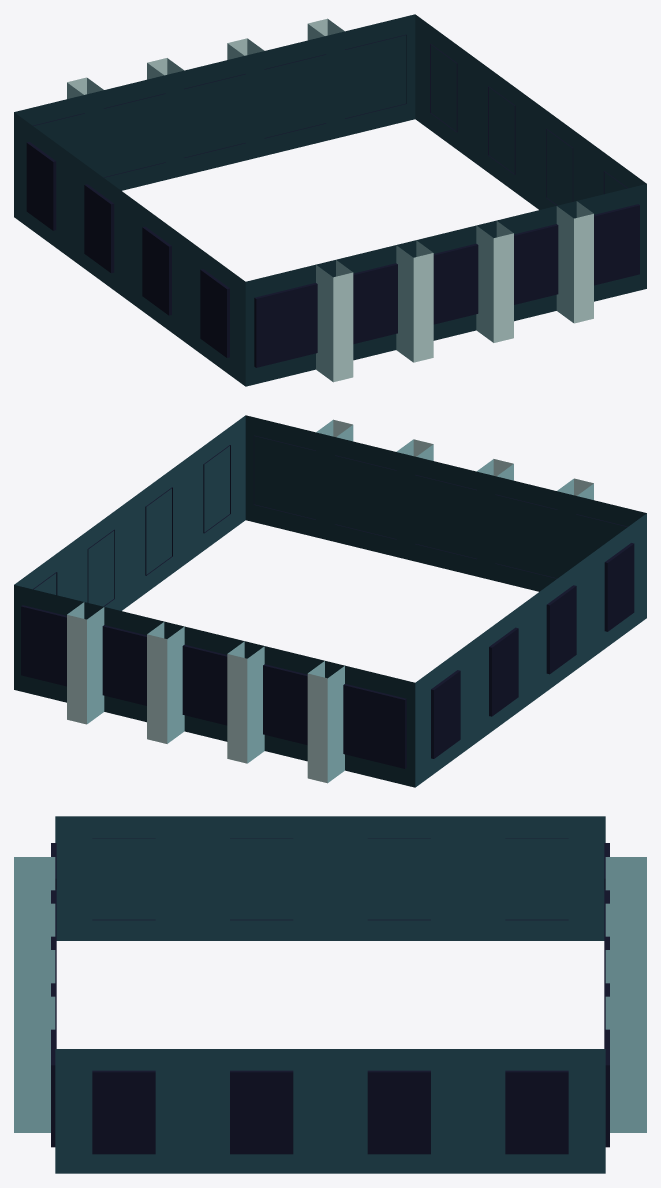
File: TB_CITY_Skysc_D_BodyB_Blue.FBX
3 renders of one model, top to bottom at view 1: azimuth 30°, elevation 25°; view 2: azimuth 150°, elevation 25°; view 3: azimuth 270°, elevation 25°, orthographic. The views are drawn at different scales.
Parts seen in each view (by area): view 1: TB_CITY_Skysc_D_BodyB_Blue; view 2: TB_CITY_Skysc_D_BodyB_Blue; view 3: TB_CITY_Skysc_D_BodyB_Blue.
Boxes of the visible parts, left/top/right/bottom form: TB_CITY_Skysc_D_BodyB_Blue: left=14, top=14, right=646, bottom=386; TB_CITY_Skysc_D_BodyB_Blue: left=14, top=415, right=646, bottom=787; TB_CITY_Skysc_D_BodyB_Blue: left=14, top=816, right=646, bottom=1173.
Size of the model in its own units: 20.31 by 5 by 23.
